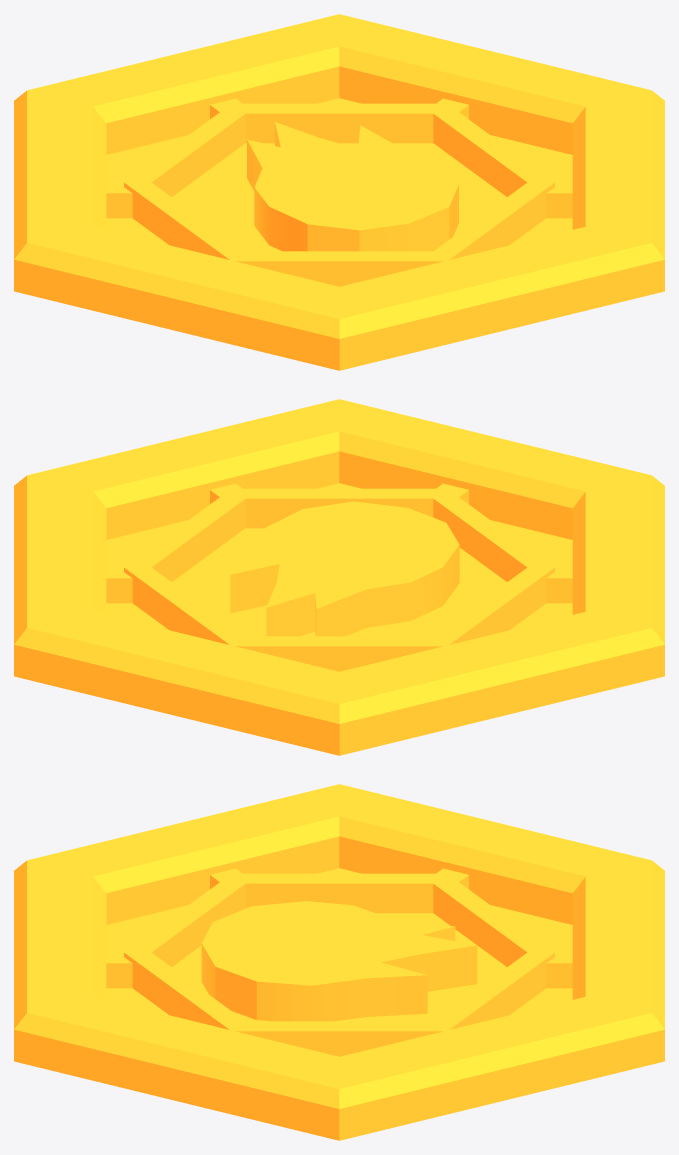
The model's file is lava_bridge_rune.glb.
The picture shows the model from 3 angles, top to bottom: view 1: azimuth 30°, elevation 25°; view 2: azimuth 150°, elevation 25°; view 3: azimuth 270°, elevation 25°; orthographic projection.
Parts seen in each view (by area): view 1: body; view 2: body; view 3: body.
Boxes of the visible parts, x1,y1,x2,y2 form: body: (14, 14, 664, 370); body: (14, 399, 664, 755); body: (14, 784, 664, 1140).
Size of the model in its own units: 0.6 by 0.04 by 0.5196.
